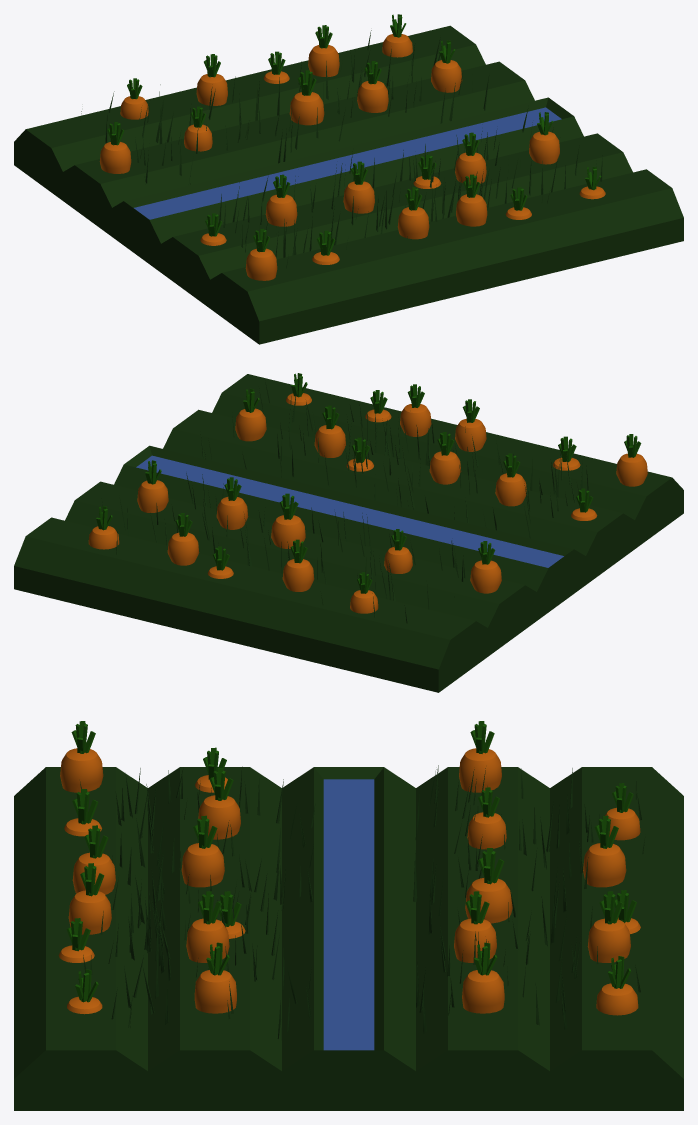
The model's file is SM_Carrots.fbx.
3 views of the same model, one above another, from view 1: azimuth 30°, elevation 25°; view 2: azimuth 150°, elevation 25°; view 3: azimuth 270°, elevation 25° (orthographic). The views are drawn at different scales.
Visible parts, largest first — view 1: Champ de Carottes; view 2: Champ de Carottes; view 3: Champ de Carottes.
Boxes of the visible parts, x1,y1,x2,y2 form: Champ de Carottes: [14, 14, 683, 344]; Champ de Carottes: [14, 373, 683, 692]; Champ de Carottes: [14, 721, 683, 1110].
Bounding box in the file's own units: 39.4 × 8.1 × 39.4.
